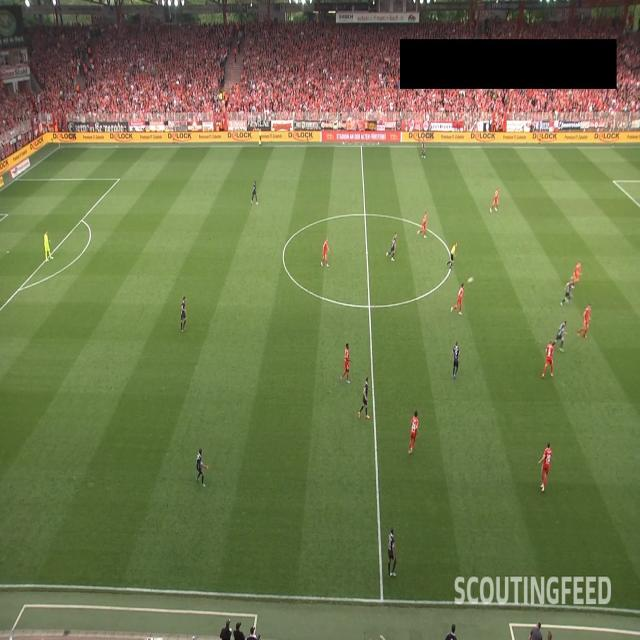ball: (466, 275, 474, 286)
